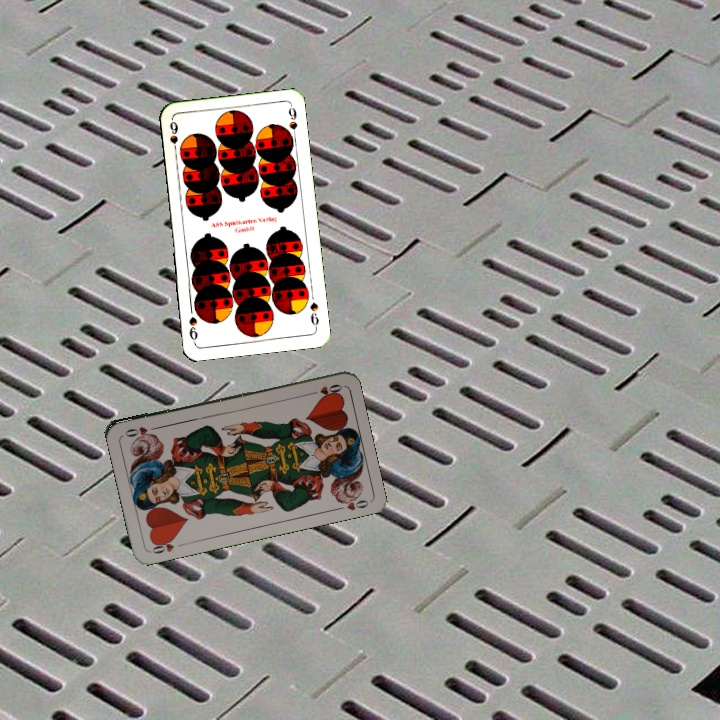HO: (147, 534, 187, 556), (304, 380, 345, 398)
S9: (166, 117, 181, 157), (306, 298, 321, 331)
